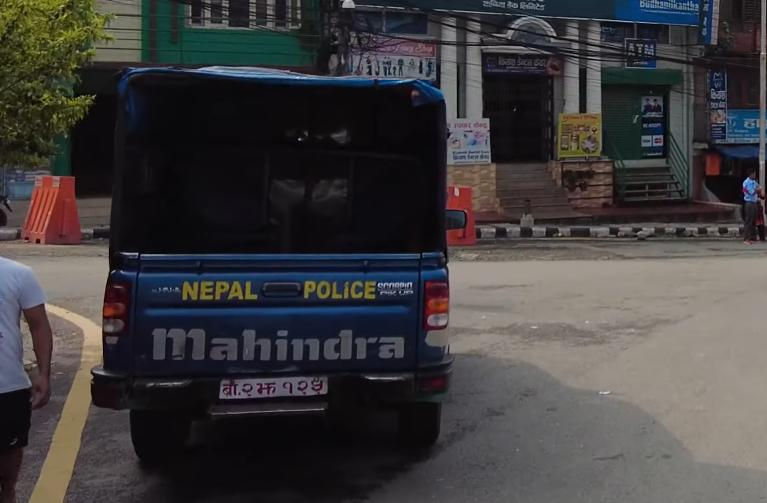police_vehicle: (102, 56, 458, 474)
